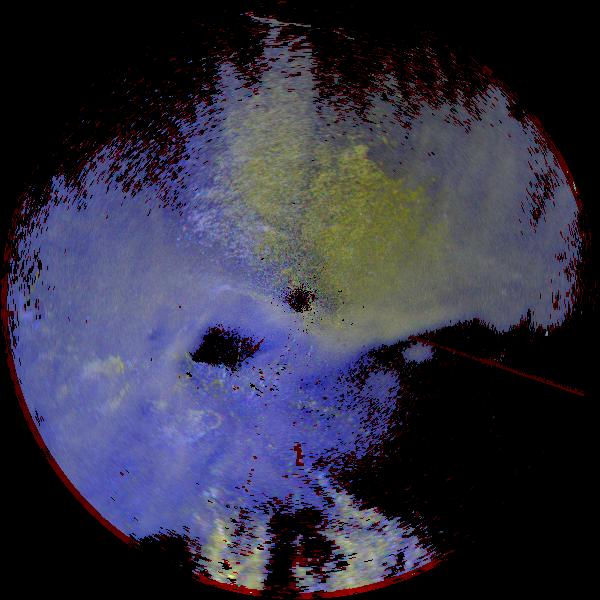roost: (70, 355, 136, 421)
